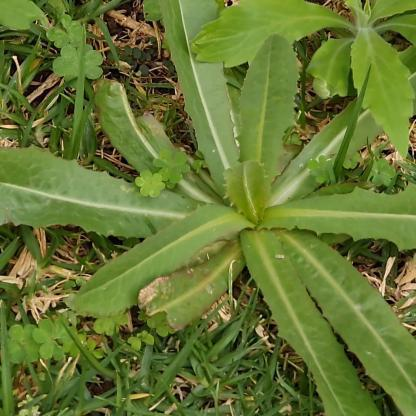Weeds: (2, 3, 415, 415), (189, 0, 415, 161)
